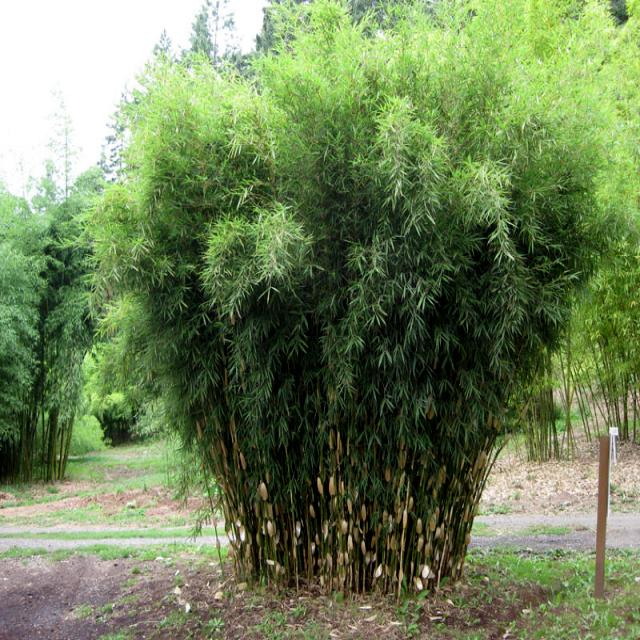Clumping: (113, 12, 560, 602)
